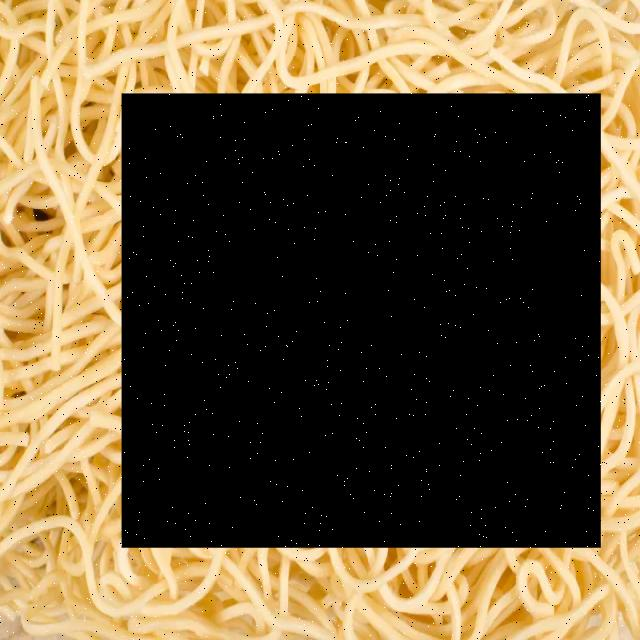Chowmein_Noodles: (122, 93, 601, 548)
